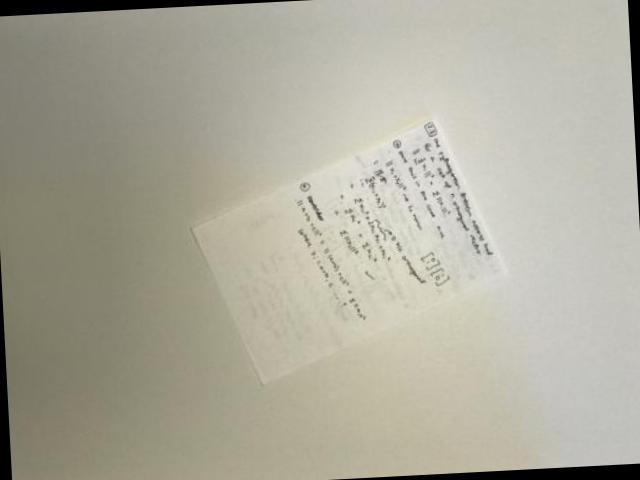cardboard paper: (196, 122, 504, 384)
